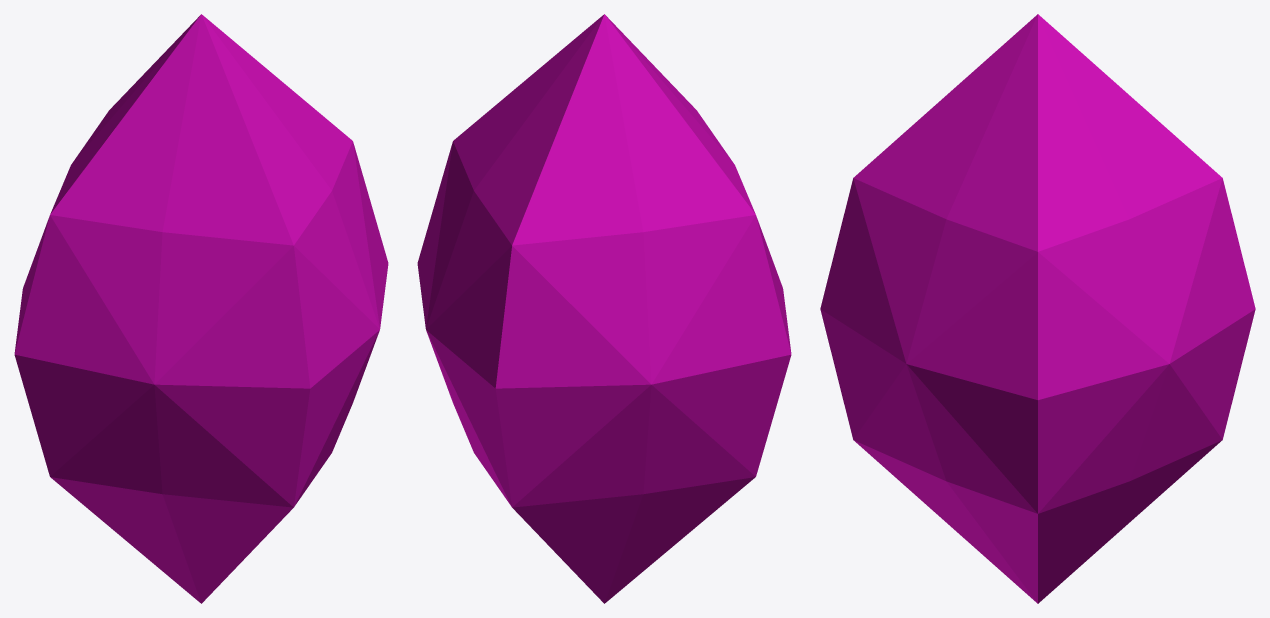
Rendered from CrystalMagenta.obj.
The picture shows the model from 3 angles, left to right: view 1: azimuth 30°, elevation 25°; view 2: azimuth 150°, elevation 25°; view 3: azimuth 270°, elevation 25°; orthographic projection.
Visible parts, largest first — view 1: CrystalMagenta; view 2: CrystalMagenta; view 3: CrystalMagenta.
Part boxes in pixels (<box>): CrystalMagenta: <box>14,14,388,603</box>; CrystalMagenta: <box>417,14,791,603</box>; CrystalMagenta: <box>820,14,1255,603</box>.
Bounding box in the file's own units: 2.99 × 4.5 × 3.01.
